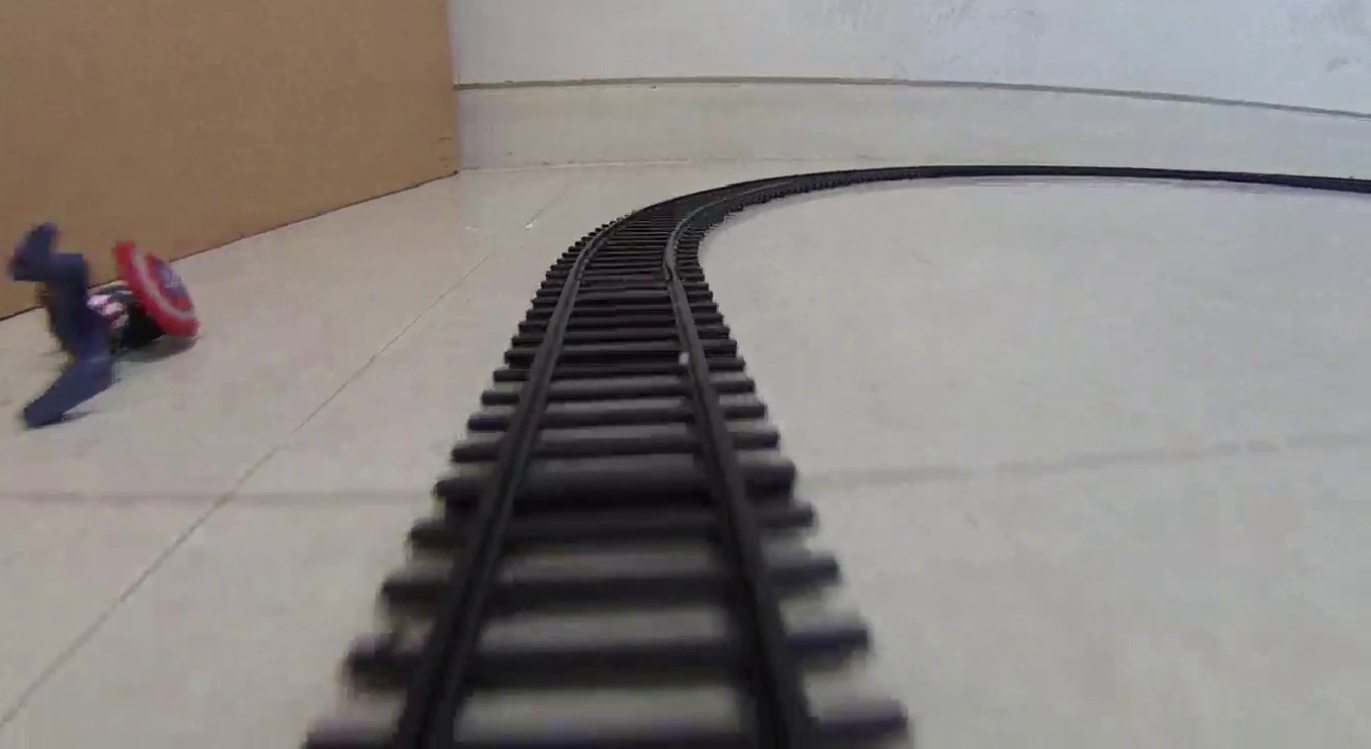people: (8, 222, 201, 432)
